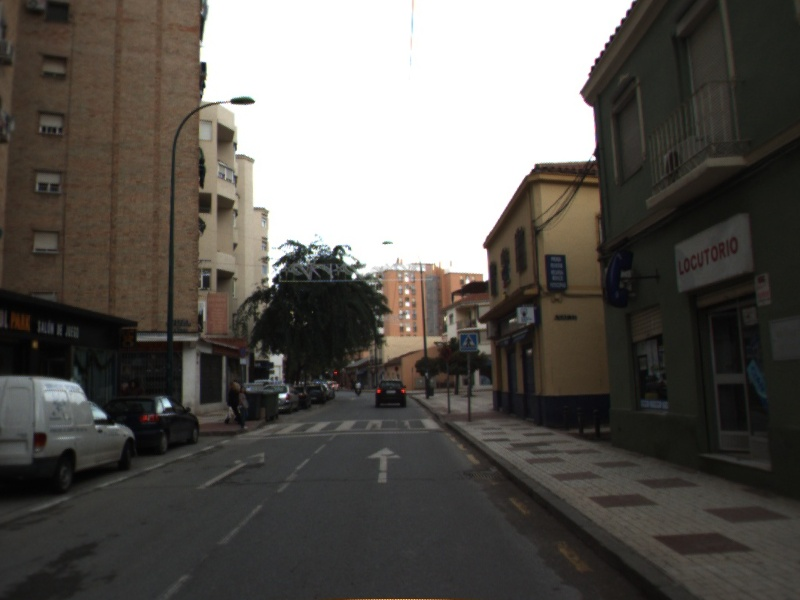STRAIGHT: (194, 450, 267, 492), (364, 445, 404, 485)
